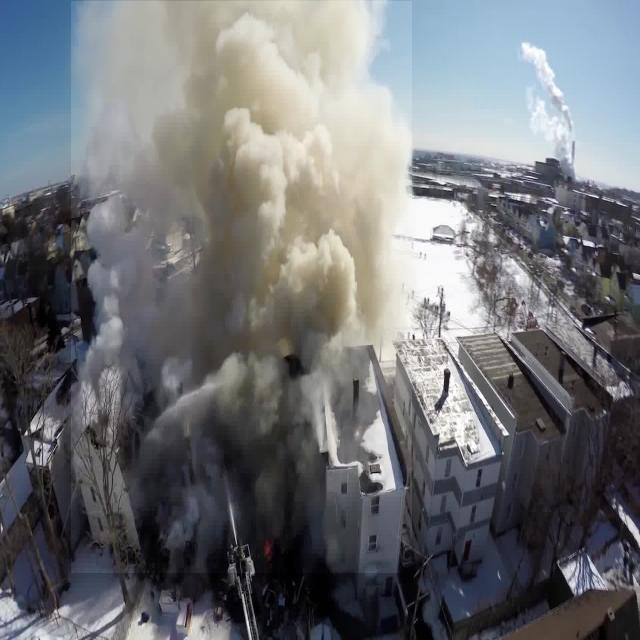Smoke: (71, 1, 412, 574)
